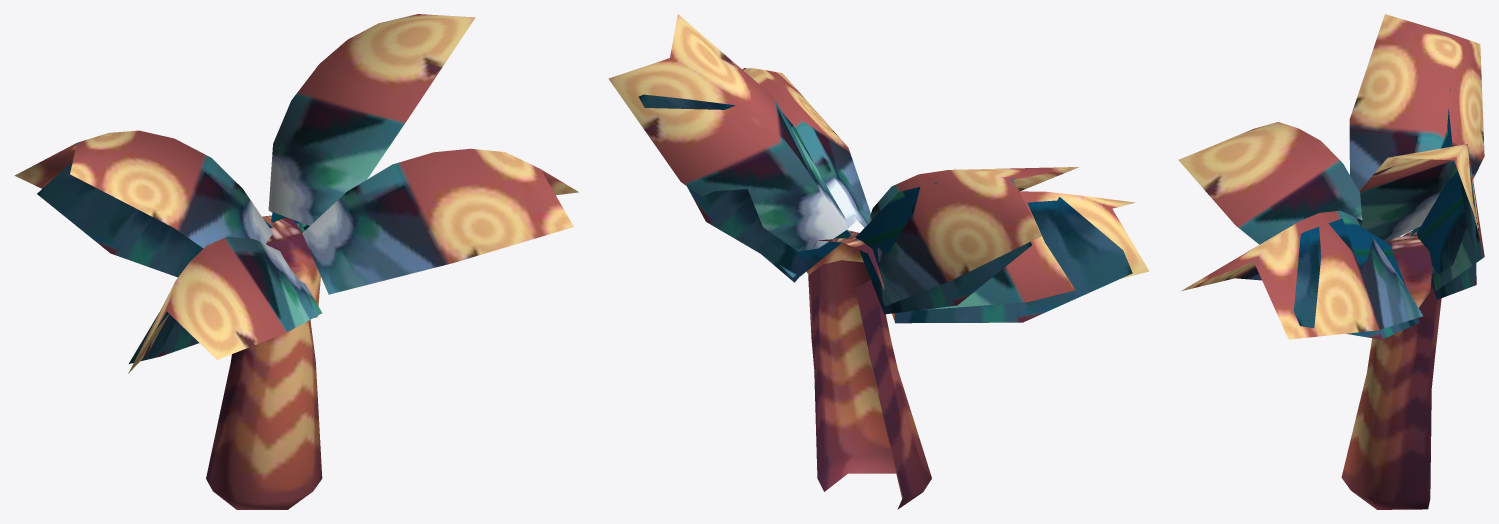
The model's file is fg_treeC_3.dae.
3 views of the same model, side by side, from view 1: azimuth 30°, elevation 25°; view 2: azimuth 150°, elevation 25°; view 3: azimuth 270°, elevation 25° (orthographic). The views are drawn at different scales.
Parts seen in each view (by area): view 1: fg_treeC_3; view 2: fg_treeC_3; view 3: fg_treeC_3.
Boxes of the visible parts, x1,y1,x2,y2 form: fg_treeC_3: [14, 14, 578, 509]; fg_treeC_3: [608, 14, 1149, 509]; fg_treeC_3: [1178, 14, 1484, 509].
Bounding box in the file's own units: 75.43 × 65.77 × 42.01.
Materials: 1 (1 with a texture image).
